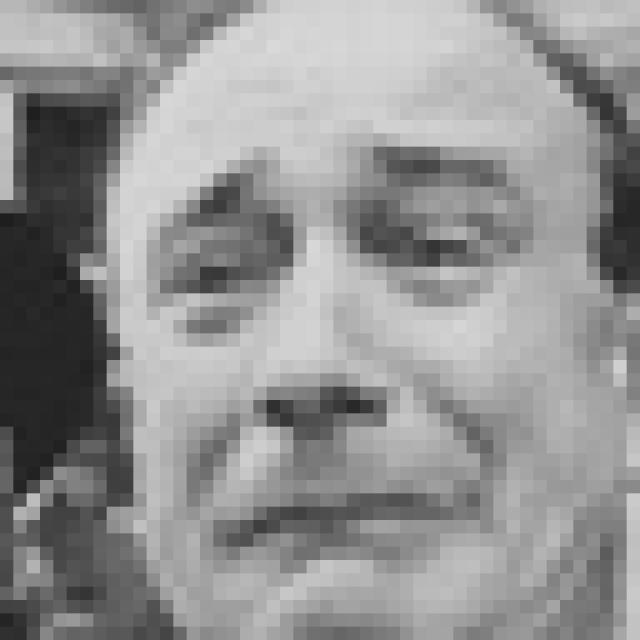sad: (140, 127, 567, 588)
